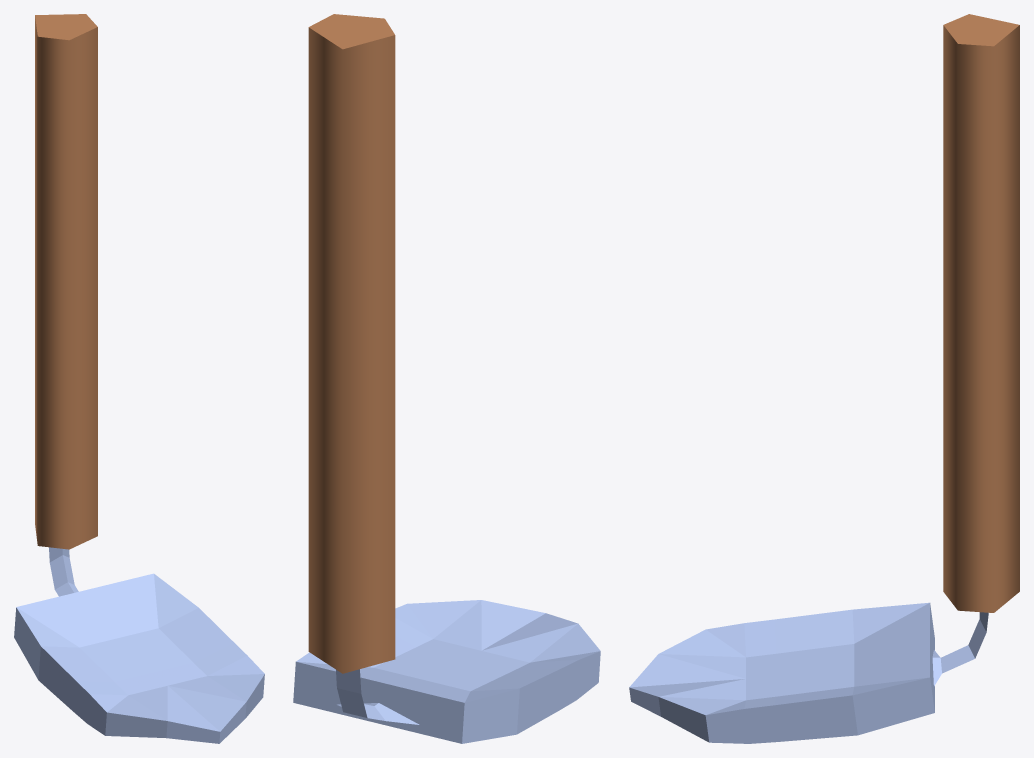
File: hoe.fbx
3 renders of one model, left to right at view 1: azimuth 30°, elevation 25°; view 2: azimuth 150°, elevation 25°; view 3: azimuth 270°, elevation 25°, orthographic. The views are drawn at different scales.
Parts seen in each view (by area): view 1: polySurface6, polySurface4; view 2: polySurface6, polySurface4; view 3: polySurface6, polySurface4.
Boxes of the visible parts, x1,y1,x2,y2 form: polySurface6: (35,14,97,549); polySurface4: (14,547,264,743); polySurface6: (308,14,395,673); polySurface4: (293,600,600,743); polySurface6: (943,14,1019,612); polySurface4: (629,602,988,743).
Size of the model in its own units: 1.08 by 3.94 by 2.08.
Materials: 2 (2 with a texture image).
